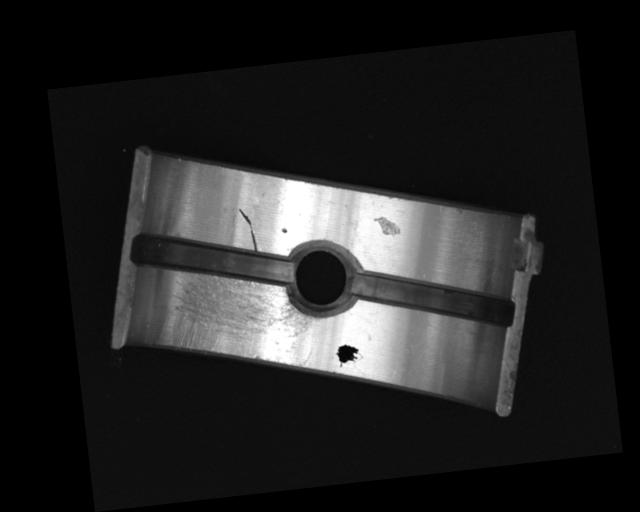blot: (334, 342, 364, 367)
bruise: (374, 214, 401, 238), (281, 226, 288, 234)
gap: (127, 215, 297, 302), (349, 254, 515, 342)
hole: (282, 237, 362, 319)
nick: (238, 205, 259, 252)
scratch: (147, 256, 323, 379)
